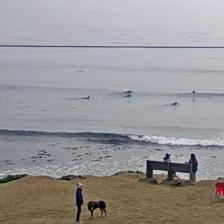surfer: (170, 101, 179, 106), (124, 94, 131, 98), (81, 96, 90, 99), (124, 90, 133, 92), (192, 90, 195, 94)
